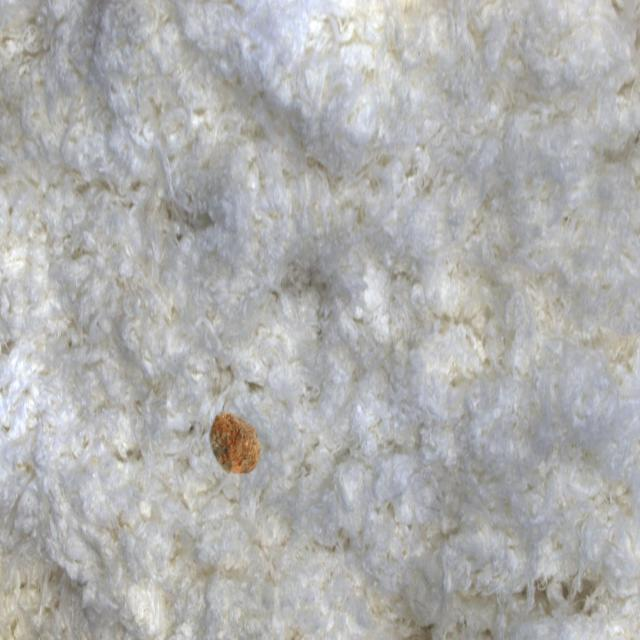dust: (188, 385, 292, 506)
